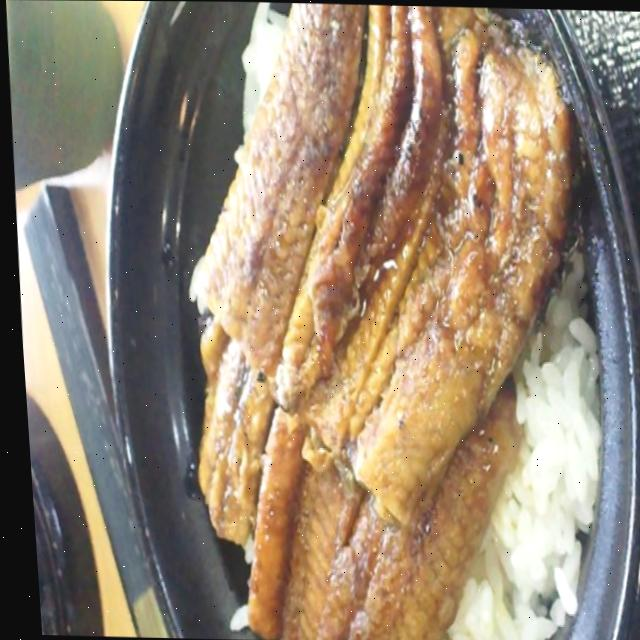熟制海鲜: (67, 0, 640, 640)
